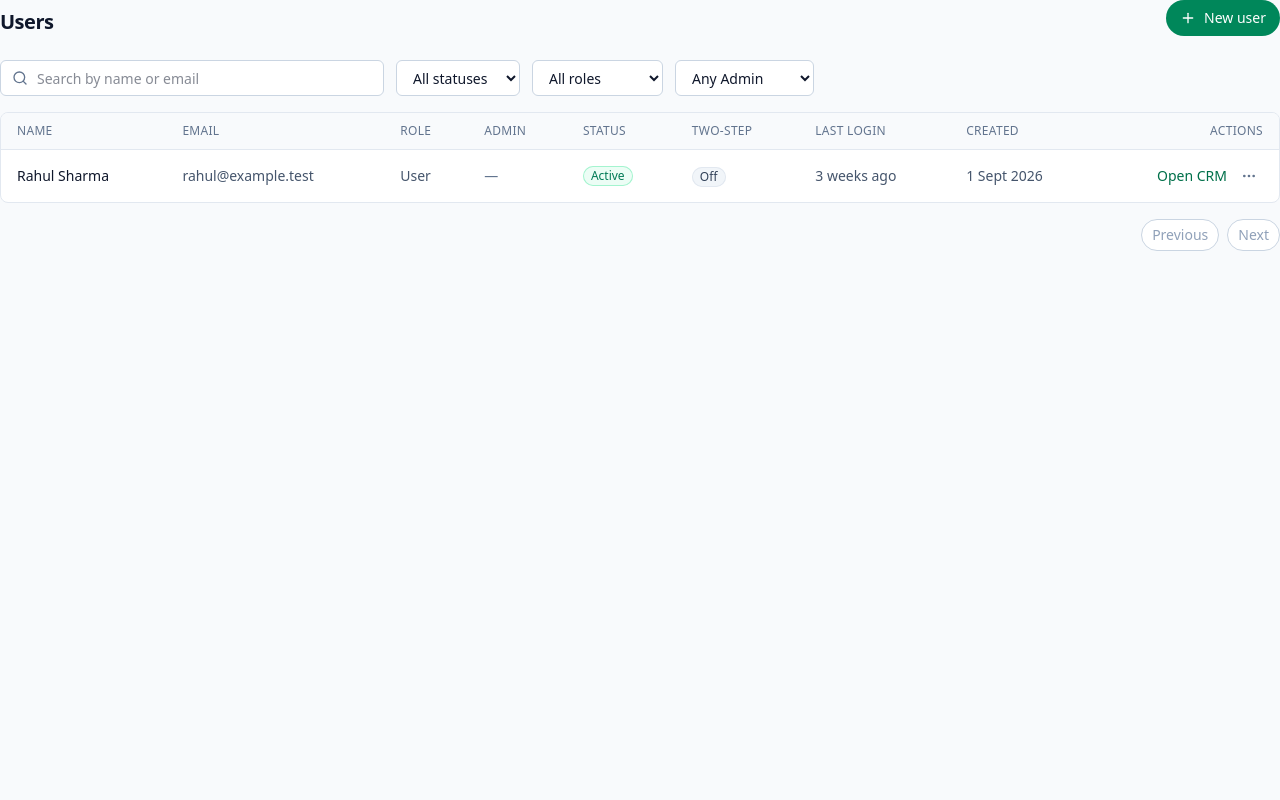
it: review: user management refreshes the workspace banner › deactivating Rahul marks his cached workspace description stale, so his banner and forms don't say Active (P3)
The width and height of the screenshot is (1280, 800).
Click the button named "Actions for Rahul Sharma" at (1249, 176), box [1233, 160, 1265, 192]
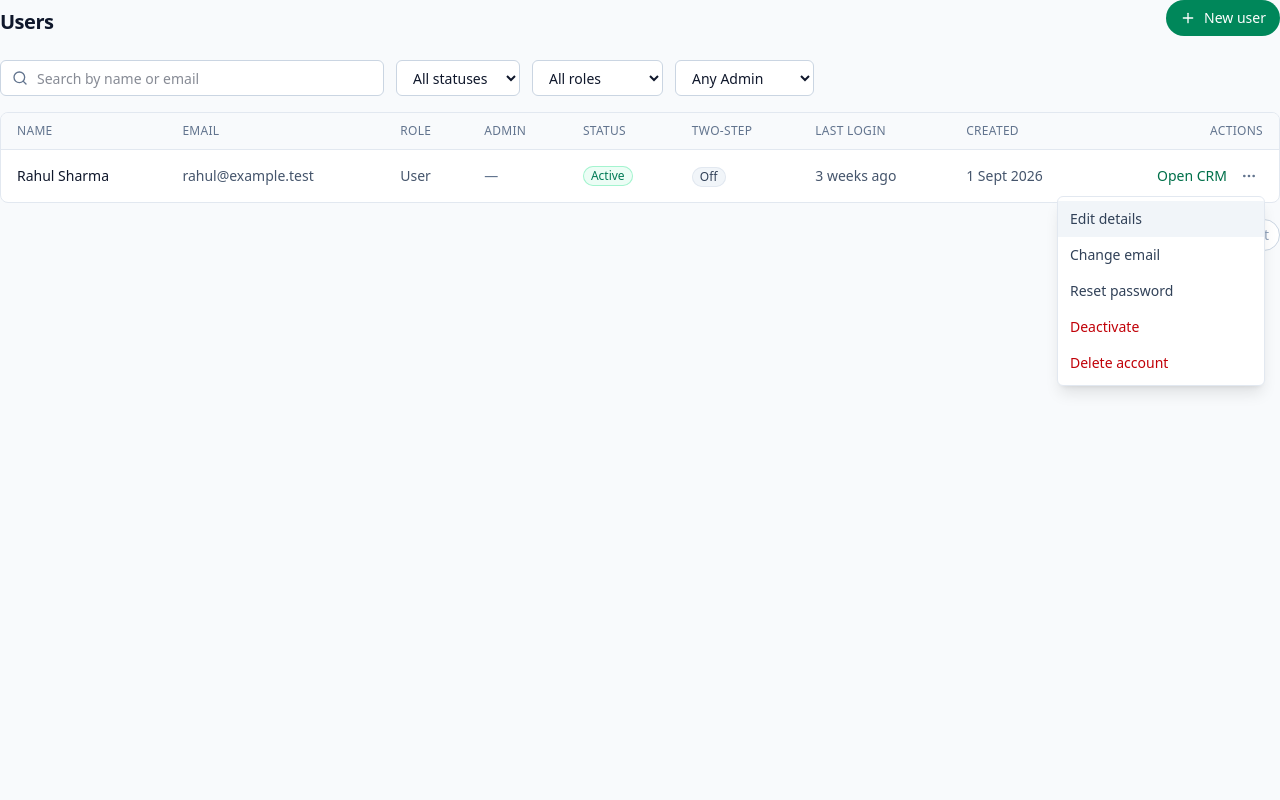
Click the menu item "Deactivate" at (1161, 327), box [1058, 309, 1264, 345]
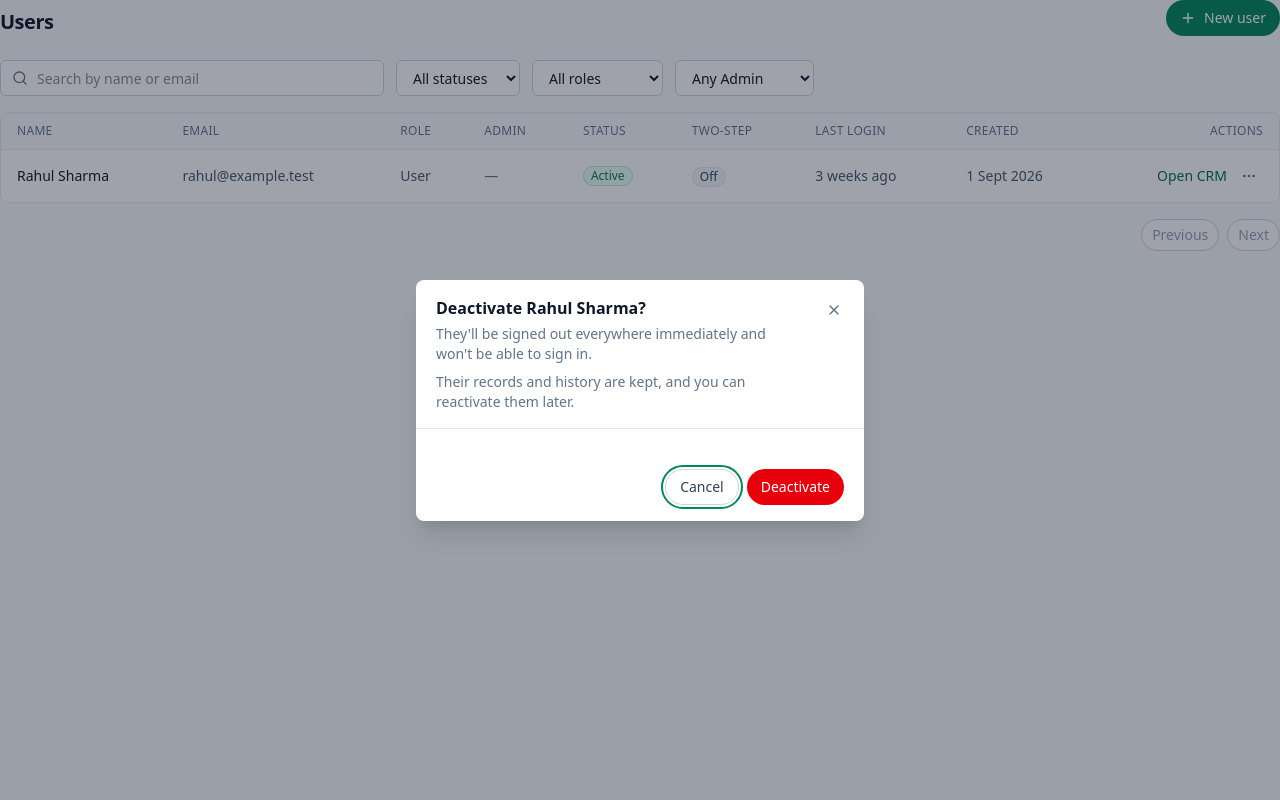
Click the button "Deactivate" at (795, 486), box [747, 468, 844, 504]
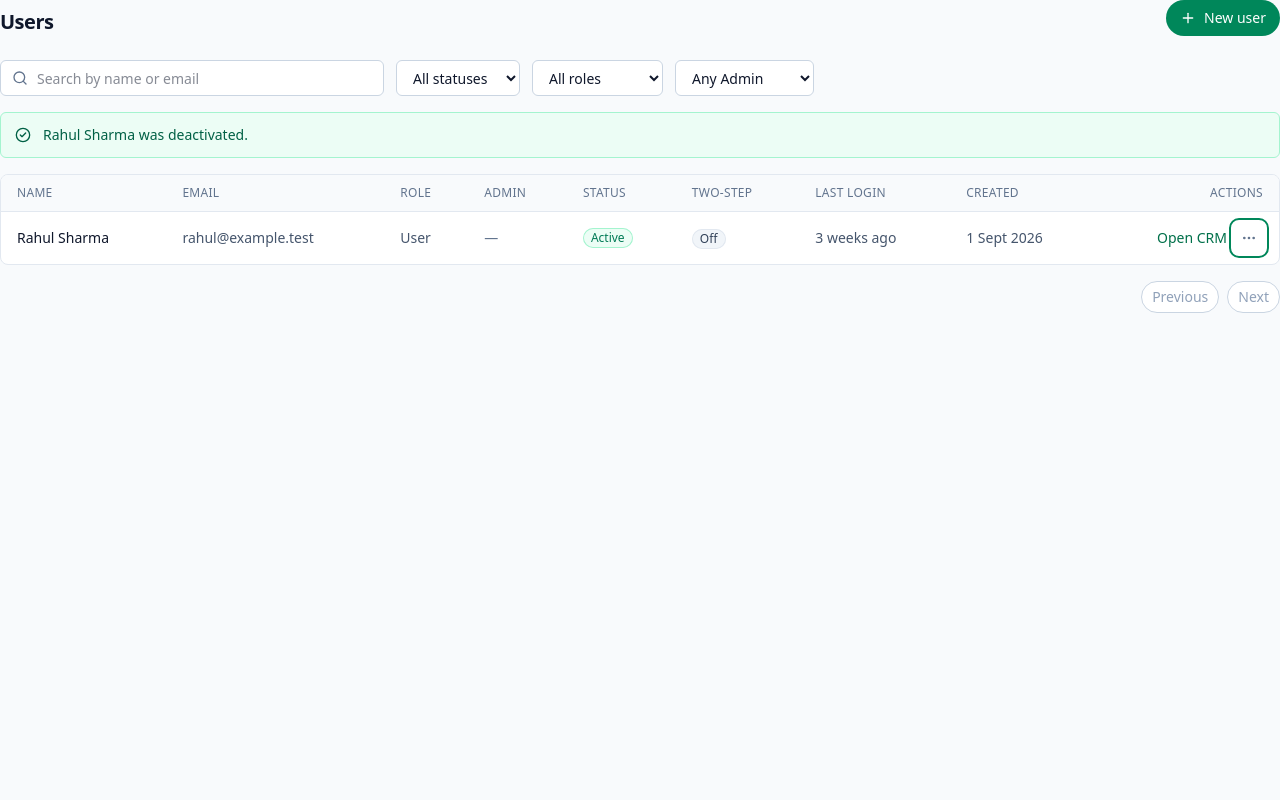
Expected: the text "Rahul Sharma was deactivated." is shown, [43, 125, 248, 144]
